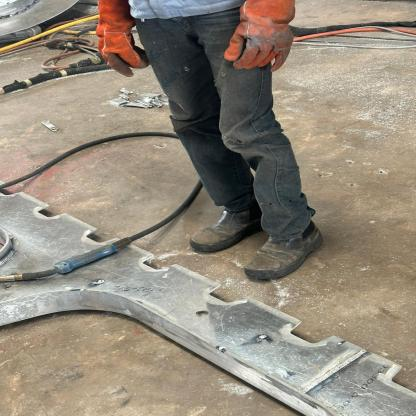bota: (236, 215, 338, 286), (172, 198, 264, 255)
